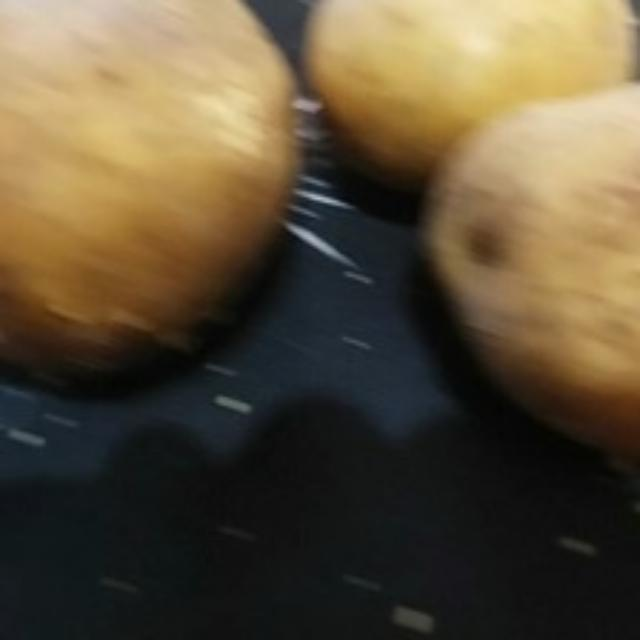Damaged potato: (0, 5, 304, 412), (408, 76, 638, 488)
Potato: (292, 0, 634, 192)
